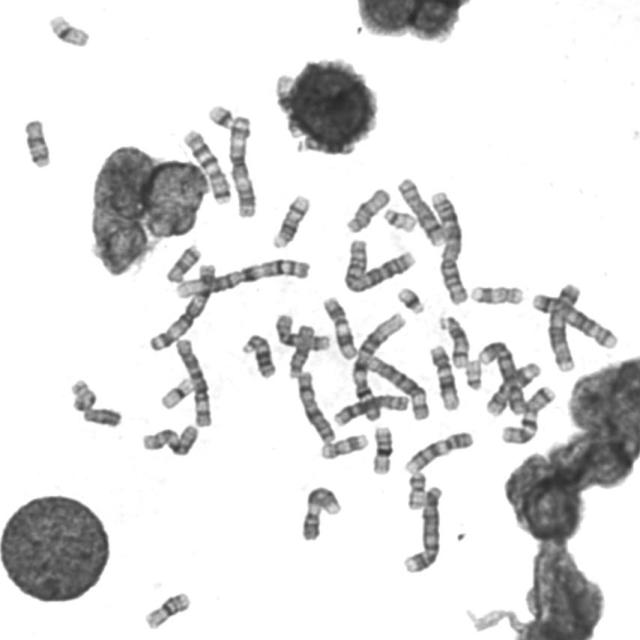A1: (347, 310, 406, 426), (172, 254, 312, 300)
A2: (427, 188, 469, 306), (340, 235, 419, 295)
A3: (144, 258, 220, 353), (225, 112, 259, 219)
B4: (476, 336, 530, 416), (400, 480, 445, 574)
B5: (528, 288, 620, 351), (545, 278, 584, 374)
C10: (272, 310, 332, 353), (138, 421, 201, 458)
C11: (483, 360, 542, 420), (319, 293, 359, 362)
C12: (426, 342, 462, 412), (273, 73, 303, 138)
C6: (364, 353, 432, 422), (172, 334, 214, 429)
C7: (179, 126, 233, 206), (498, 383, 558, 445)
C8: (394, 174, 448, 248), (332, 391, 412, 428)
C9: (401, 428, 476, 474), (298, 483, 344, 542)
D13: (238, 330, 278, 380), (294, 135, 358, 156)
D14: (269, 191, 313, 250), (435, 311, 471, 370)
D15: (342, 184, 392, 235), (285, 322, 315, 380)
E16: (141, 588, 192, 630), (368, 422, 395, 477)
E17: (316, 430, 369, 461), (468, 281, 525, 307)
E18: (20, 114, 52, 170), (163, 241, 202, 284)
F19: (44, 11, 92, 48), (157, 374, 196, 411)
F20: (67, 376, 99, 412), (404, 468, 428, 511)
G21: (394, 284, 427, 316), (204, 100, 236, 130)
G22: (379, 204, 418, 234), (462, 356, 484, 392)
X: (295, 367, 338, 445)
Y: (80, 404, 124, 429)
